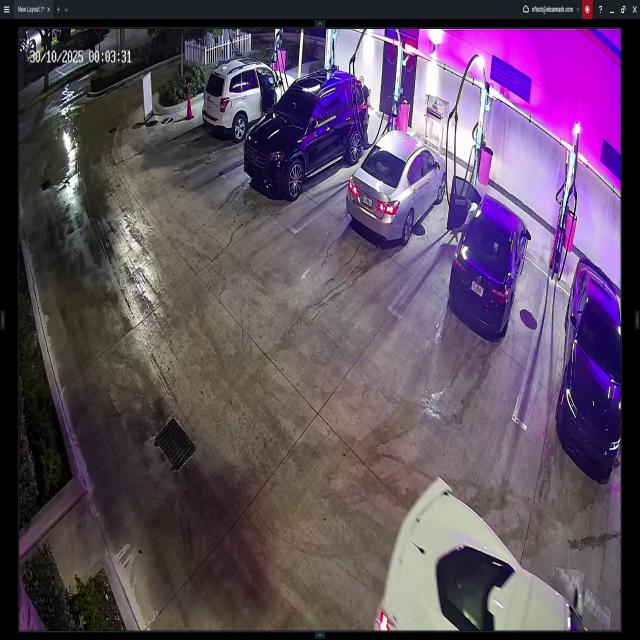Car: (370, 476, 589, 632), (242, 67, 368, 197), (558, 256, 620, 481), (448, 174, 531, 338), (346, 132, 446, 241), (203, 58, 296, 140)
